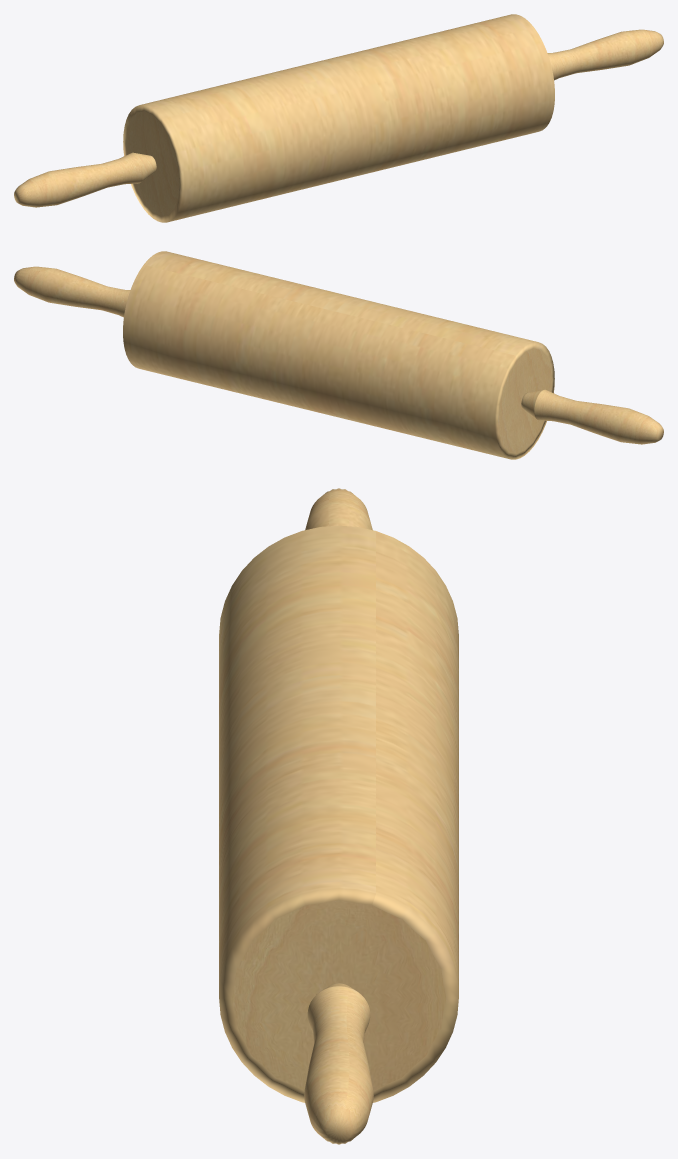
Rendered from rollingpin.fbx.
The picture shows the model from 3 angles, top to bottom: view 1: azimuth 30°, elevation 25°; view 2: azimuth 150°, elevation 25°; view 3: azimuth 270°, elevation 25°; orthographic projection. The views are drawn at different scales.
Parts seen in each view (by area): view 1: pCylinder1, pCylinder4; view 2: pCylinder1, pCylinder4; view 3: pCylinder1, pCylinder4.
Part boxes in pixels (box(x1,y1,x2,y2)): pCylinder1: box(123, 14, 554, 222); pCylinder4: box(14, 29, 663, 207); pCylinder1: box(123, 251, 554, 459); pCylinder4: box(14, 266, 663, 444); pCylinder1: box(219, 525, 458, 1102); pCylinder4: box(304, 488, 373, 1144).
Bounding box in the file's own units: 43.38 × 7.05 × 7.
